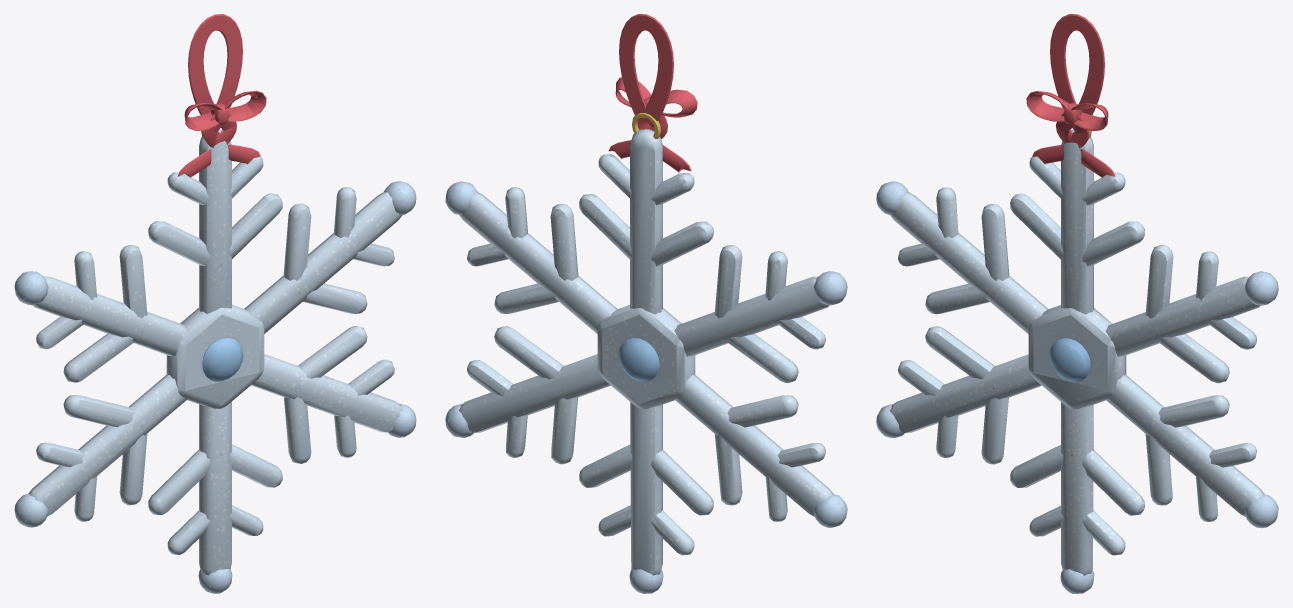
Rendered from olaf.glb.
3 views of the same model, side by side, from view 1: azimuth 30°, elevation 25°; view 2: azimuth 150°, elevation 25°; view 3: azimuth 330°, elevation 25° (orthographic).
Visible parts, largest first — view 1: snowflake-decoration_body; view 2: snowflake-decoration_body; view 3: snowflake-decoration_body.
Boxes of the visible parts, x1,y1,x2,y2 form: snowflake-decoration_body: (14,14,416,593); snowflake-decoration_body: (445,14,847,593); snowflake-decoration_body: (876,14,1278,593).
Bounding box in the file's own units: 0.2541 × 0.3535 × 0.0285.
1 material, 1 textured.
